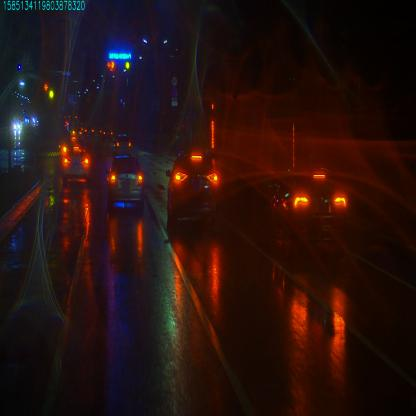traffic-light: (106, 51, 132, 60), (124, 61, 130, 72), (106, 62, 114, 70)
